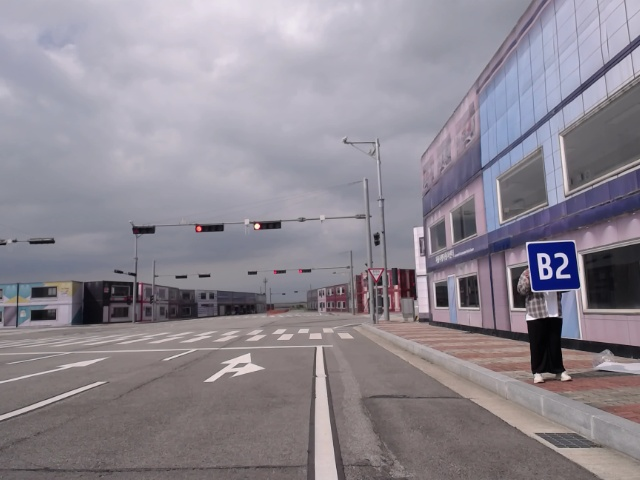delivery_b2: (524, 237, 582, 295)
red_4: (194, 221, 226, 235), (252, 219, 286, 230), (296, 267, 313, 275), (273, 269, 289, 275)
